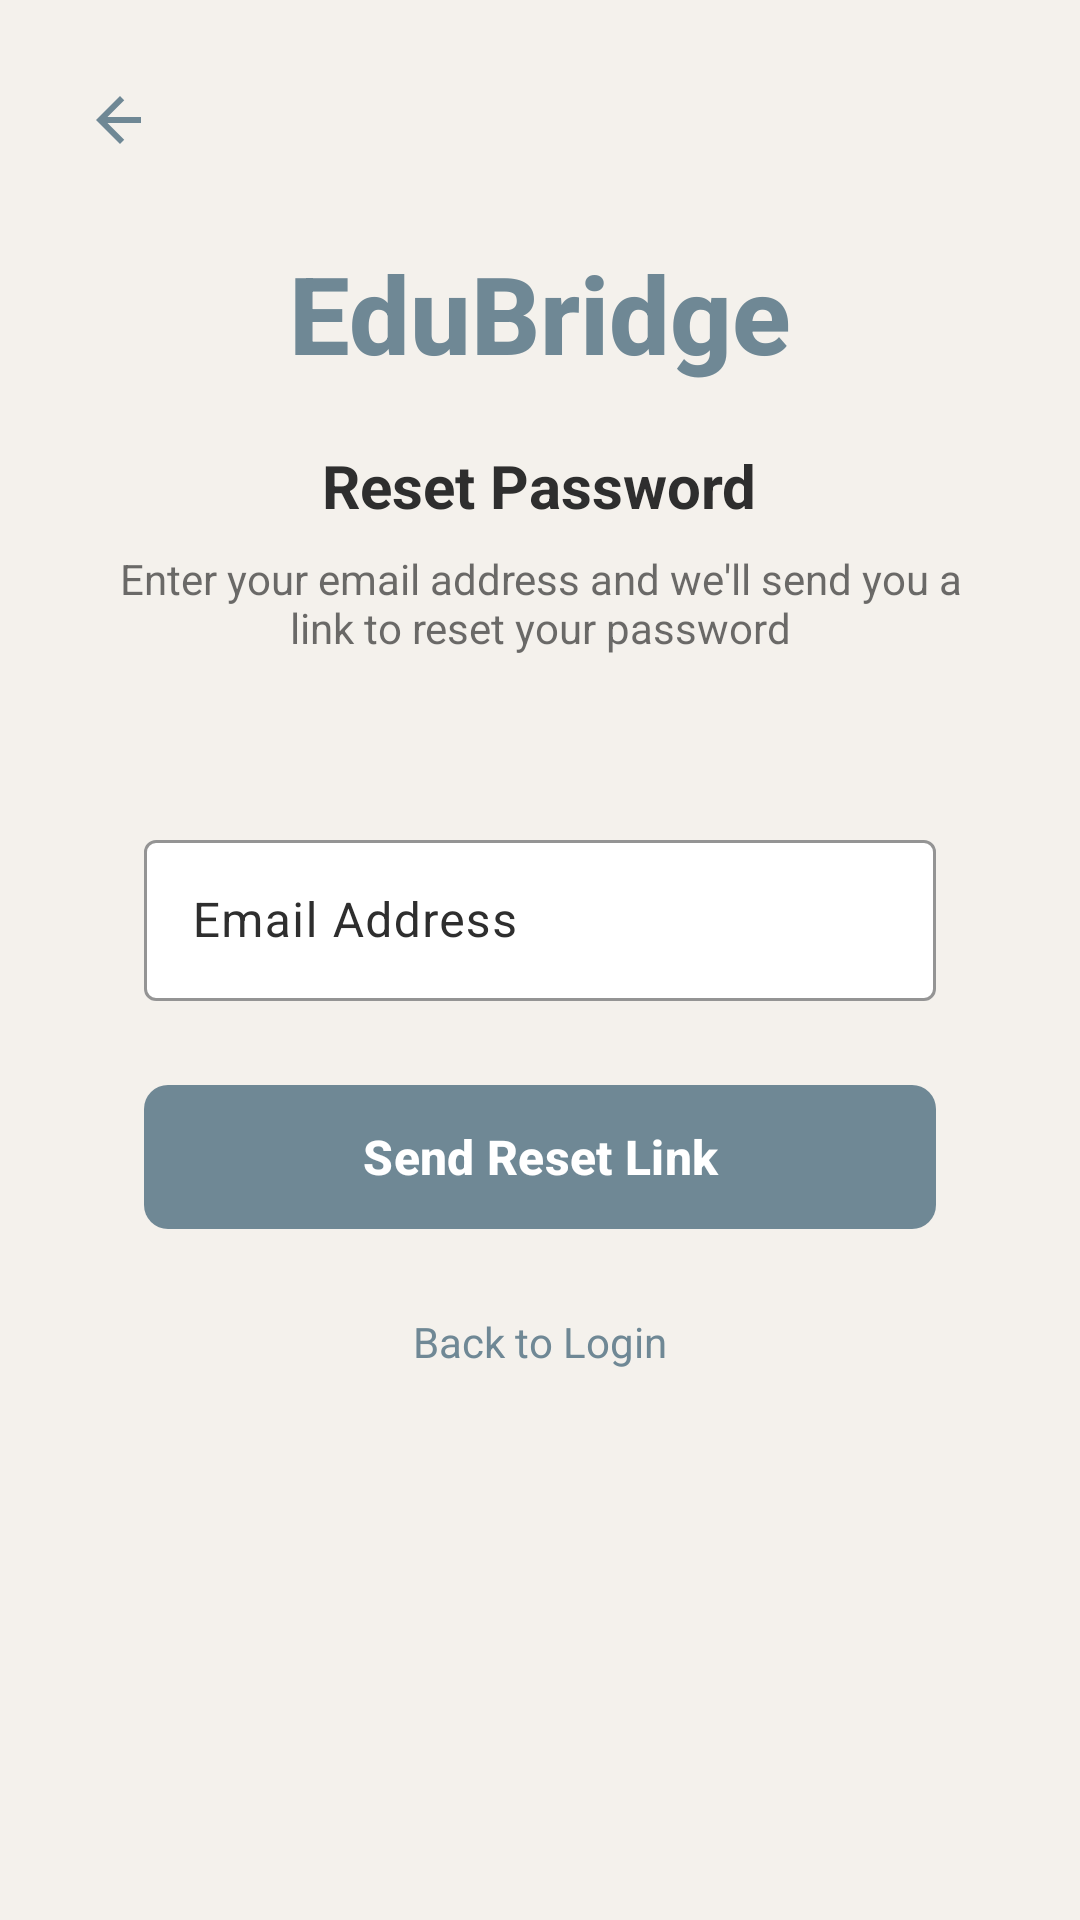

Icons on this 1080w x 1920h Android screen, each with the point to tap as (x=x, y=y):
arrow back: (x=118, y=120)
